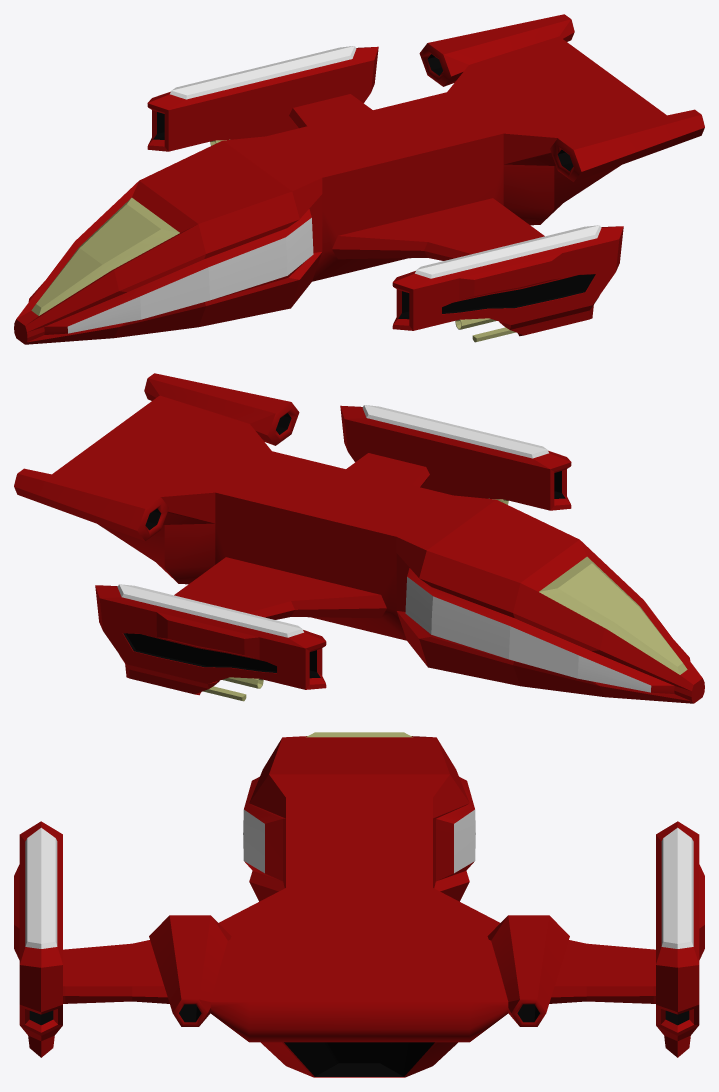
The model's file is Ship2.fbx.
3 renders of one model, top to bottom at view 1: azimuth 30°, elevation 25°; view 2: azimuth 150°, elevation 25°; view 3: azimuth 270°, elevation 25°, orthographic. The views are drawn at different scales.
Parts seen in each view (by area): view 1: pCylinder9; view 2: pCylinder9; view 3: pCylinder9.
Part boxes in pixels (bbox=[...]): pCylinder9: bbox=[14, 14, 704, 344]; pCylinder9: bbox=[14, 373, 704, 703]; pCylinder9: bbox=[14, 732, 704, 1077].
Bounding box in the file's own units: 12.57 × 2.52 × 9.44.
